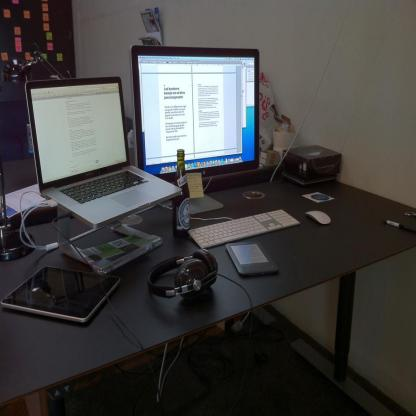board: (30, 73, 161, 234), (174, 148, 190, 237)
